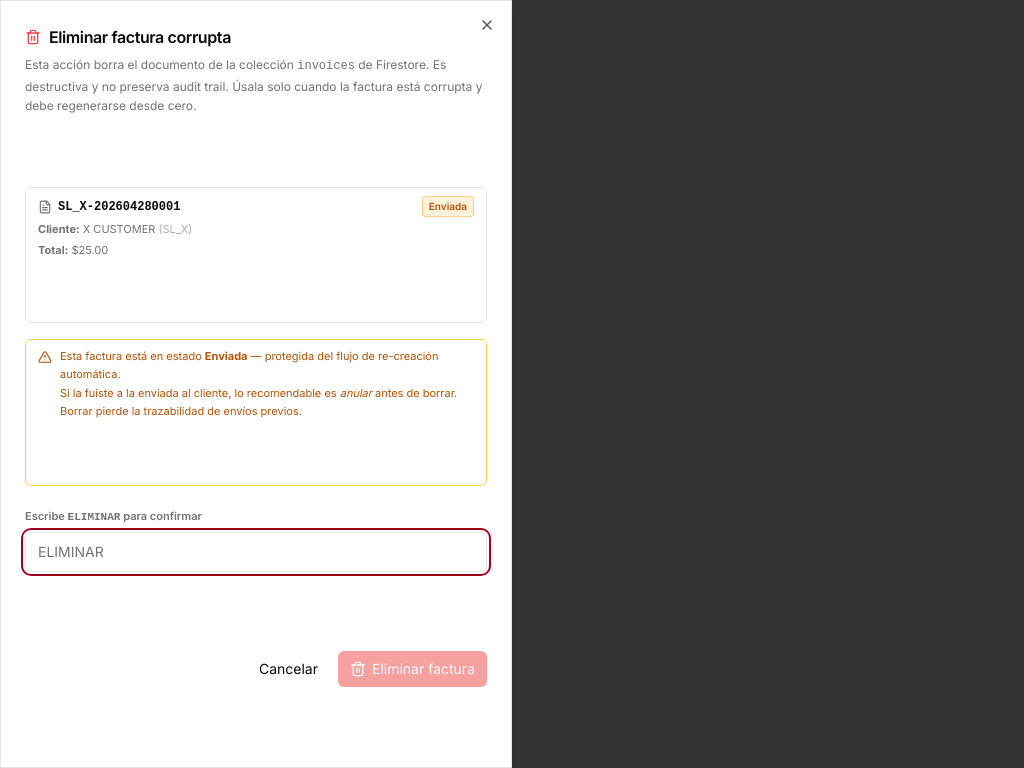
Test: NovaDeleteInvoiceConfirmModal › shows the typed-confirmation gate for SENT invoices and disables Confirm until typed
This screenshot has width=1024, height=768.
Expected: the button with test id "nova-delete-invoice-confirm" is disabled, [338,651,487,687]
In the field with test id "nova-delete-invoice-typed-input": (256, 552) [25,532,487,572], type "eliminar"
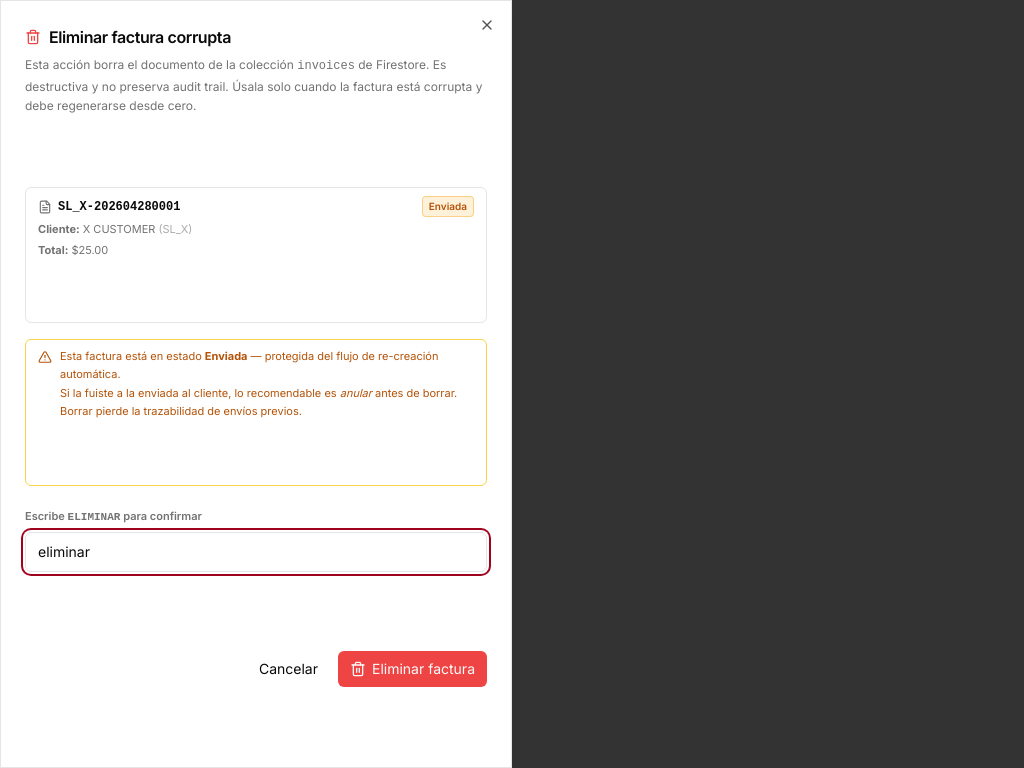
Now the button with test id "nova-delete-invoice-confirm" is enabled, box [338,651,487,687]
